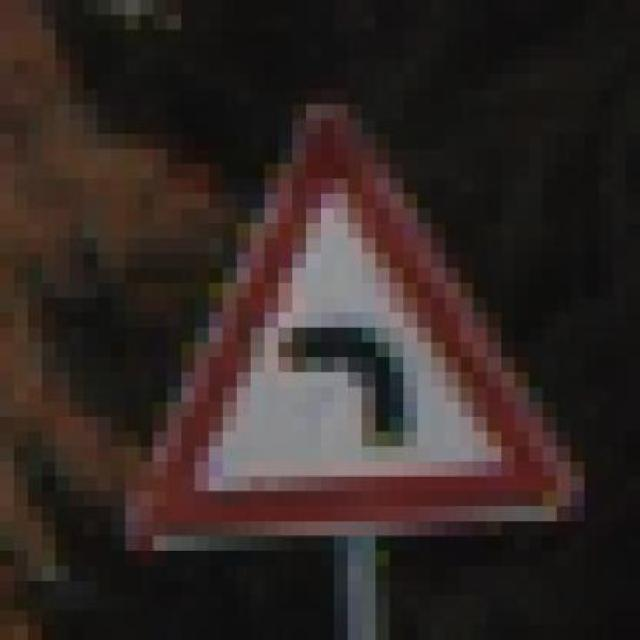Dangerous Left Curve Ahead: (97, 75, 585, 550)
